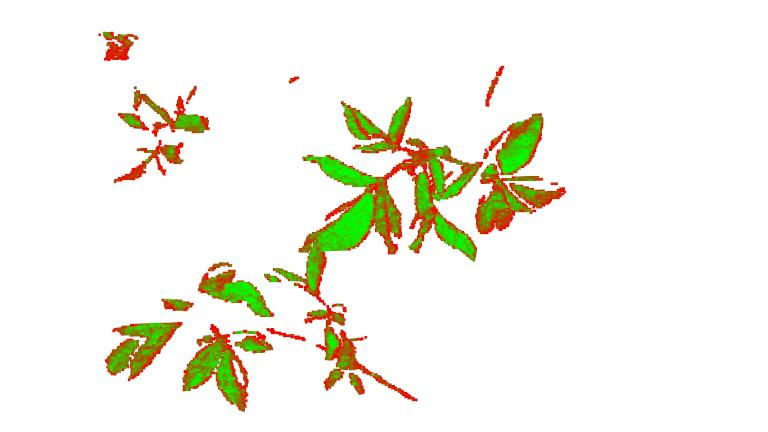mungbean: (104, 251, 418, 419), (299, 96, 566, 250), (113, 85, 210, 187)
